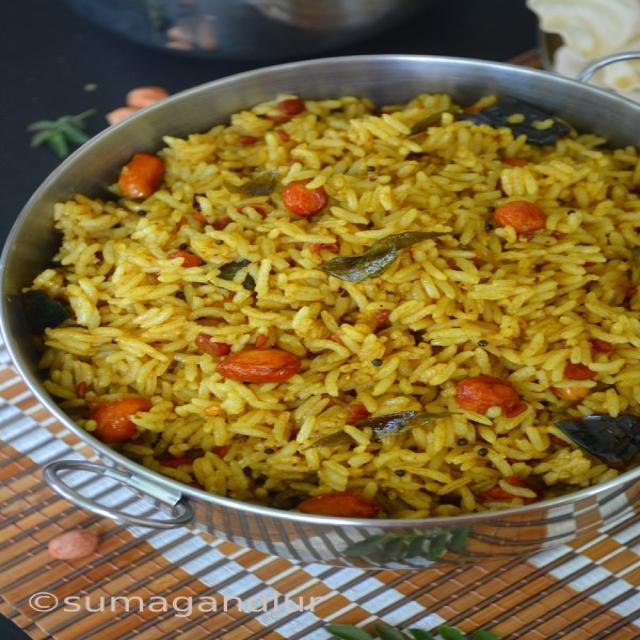puliyogare: (8, 71, 640, 522)
